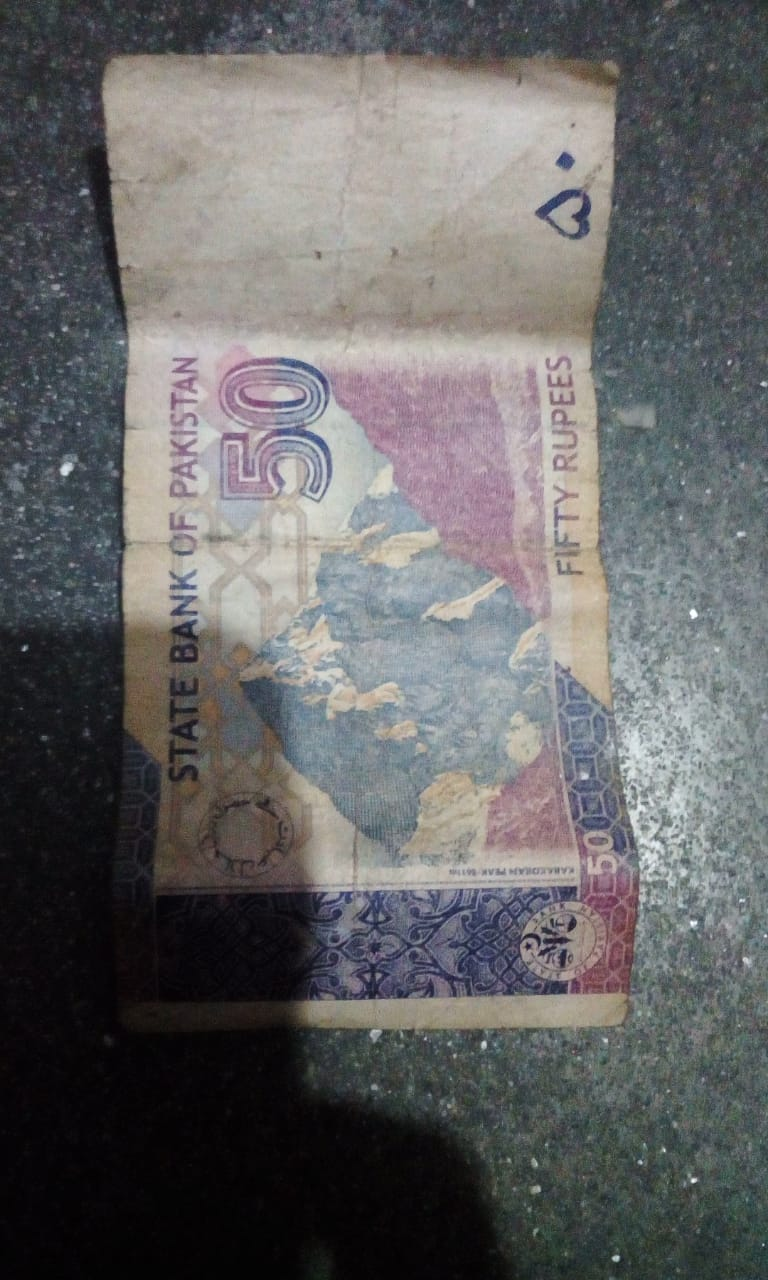50 rupee: (76, 46, 645, 1038)
